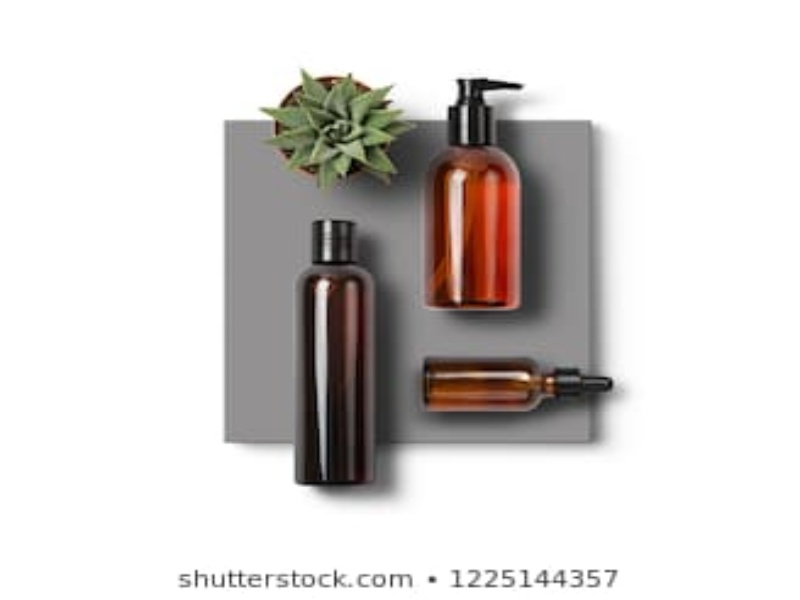shampoo-bottle: (418, 73, 542, 313), (290, 216, 383, 488)
